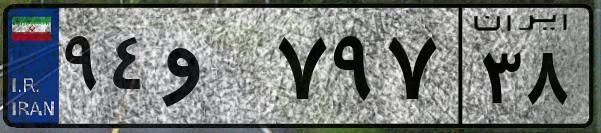3: (475, 38, 525, 113)
4: (110, 28, 158, 98)
7: (270, 28, 330, 110), (385, 28, 445, 110)
8: (525, 38, 570, 115)
9: (330, 28, 385, 110), (57, 26, 110, 100)
و: (158, 20, 270, 120)
